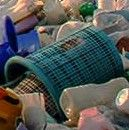garbage: (1, 1, 129, 128)
